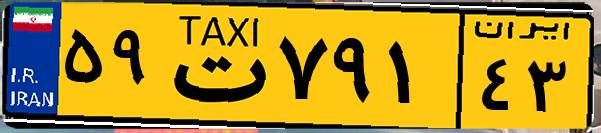1: (385, 28, 445, 110)
3: (525, 38, 570, 115)
4: (475, 38, 525, 113)
5: (57, 26, 110, 100)
7: (270, 28, 330, 110)
9: (330, 28, 385, 110), (110, 28, 158, 98)
ت: (158, 12, 270, 120)
